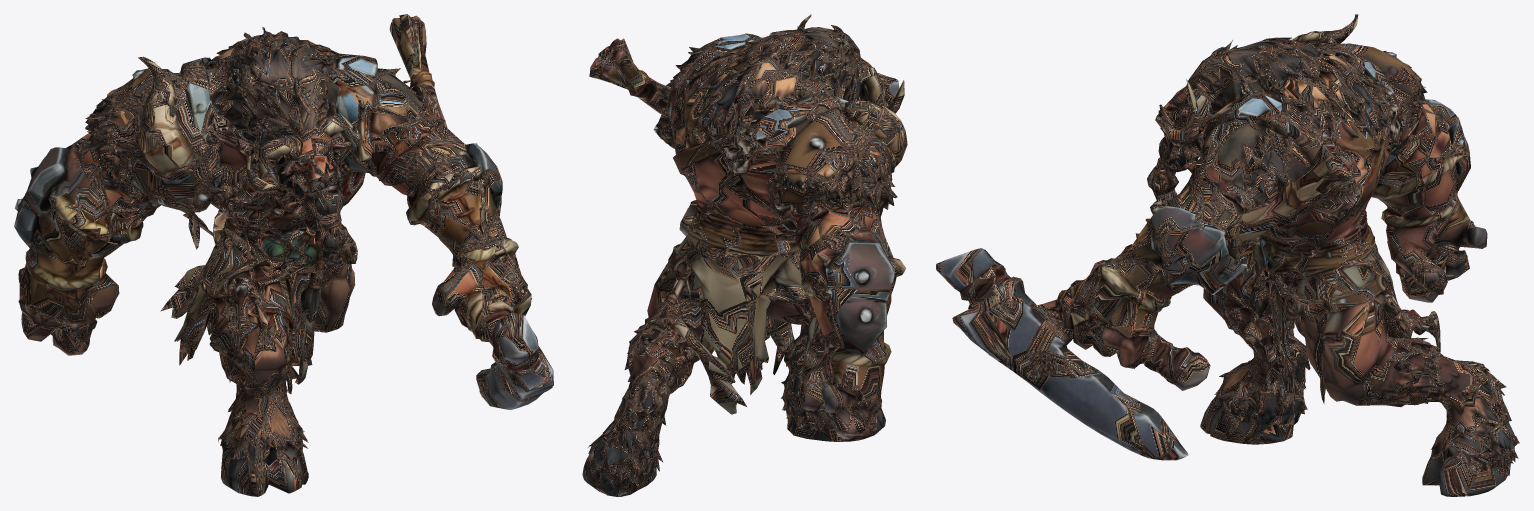
File: minotaur.glb
3 renders of one model, left to right at view 1: azimuth 30°, elevation 25°; view 2: azimuth 150°, elevation 25°; view 3: azimuth 270°, elevation 25°, orthographic. The views are drawn at different scales.
Bounding box in the file's own units: 1.28 × 1.42 × 1.89.
1 material, 1 textured.
